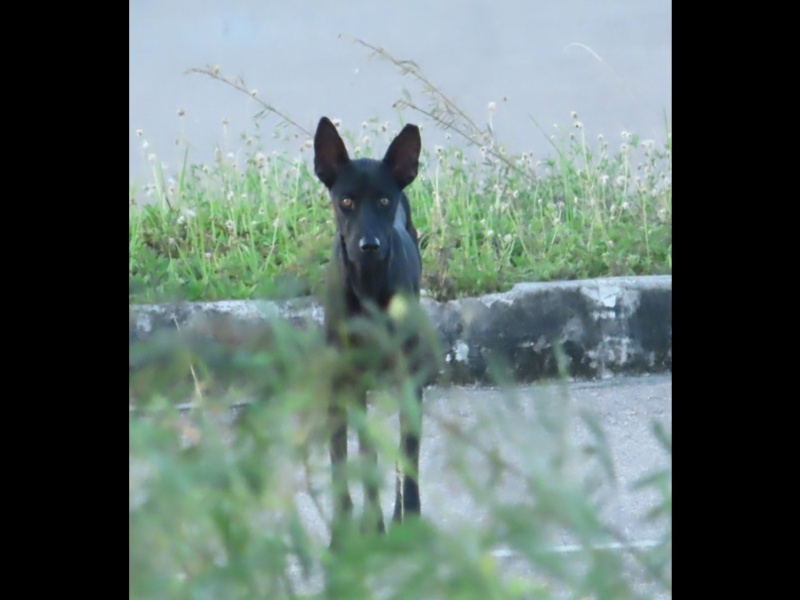dog: (303, 112, 447, 544)
